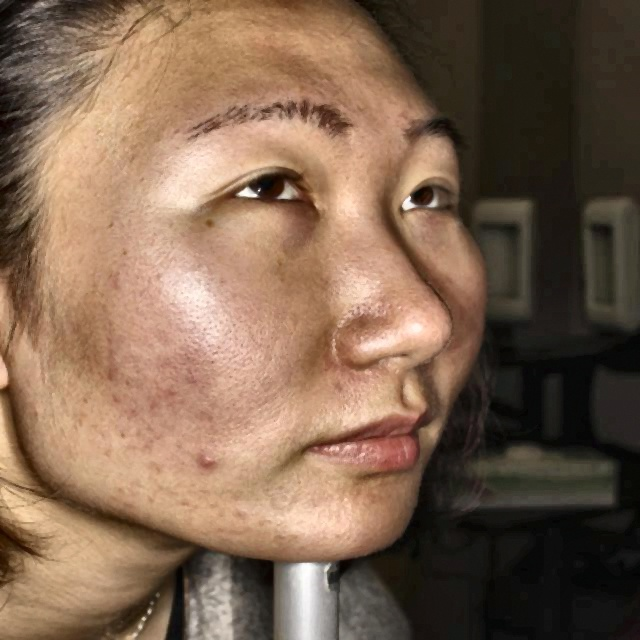comedone: (183, 445, 221, 481)
